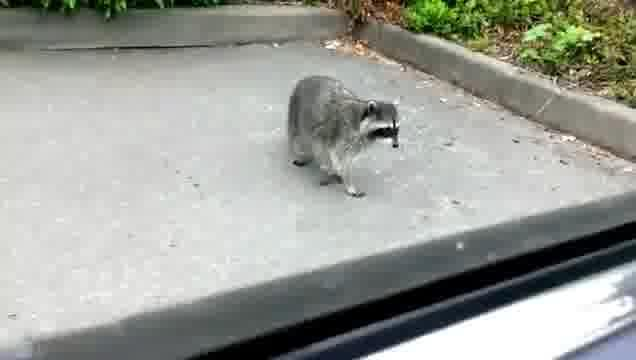raccoon: (285, 73, 405, 210)
